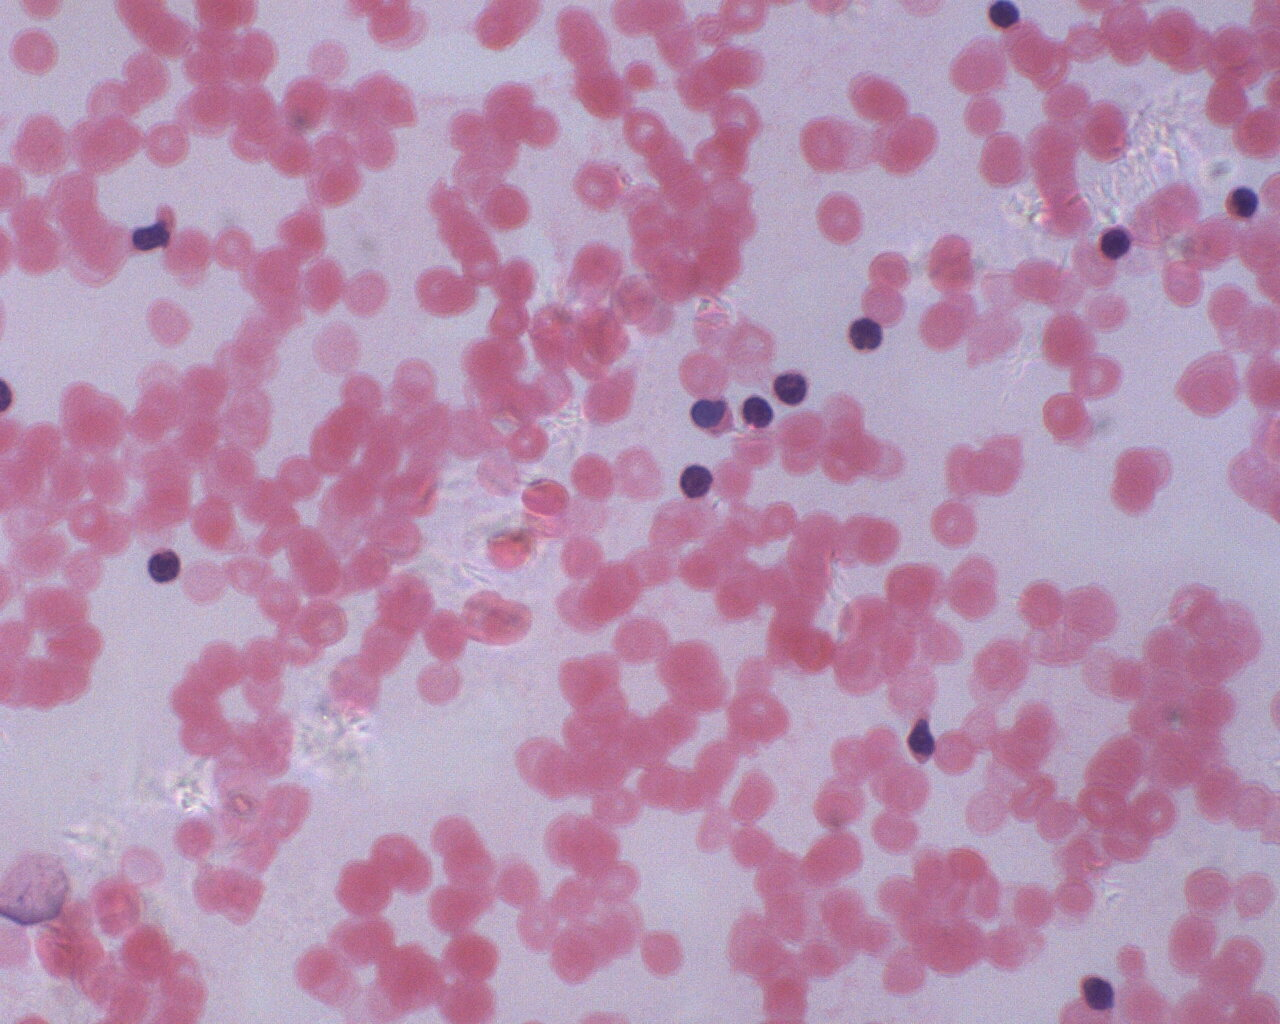lymph: (843, 312, 893, 356), (143, 542, 186, 586), (679, 458, 719, 504), (732, 393, 776, 433), (1097, 222, 1137, 262), (1224, 181, 1263, 222)
